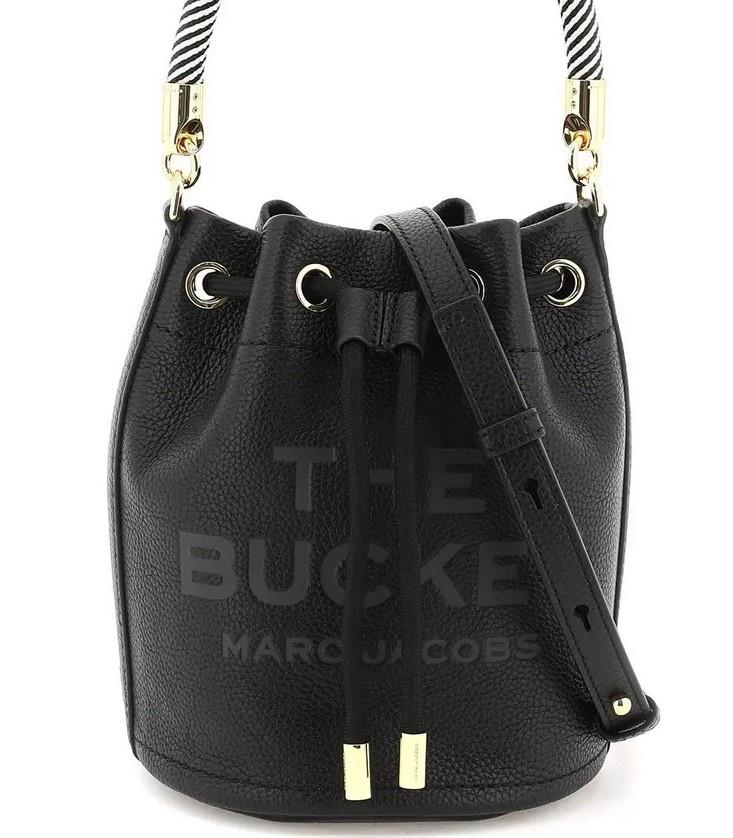MARC-JACOBS: (221, 631, 540, 665)
